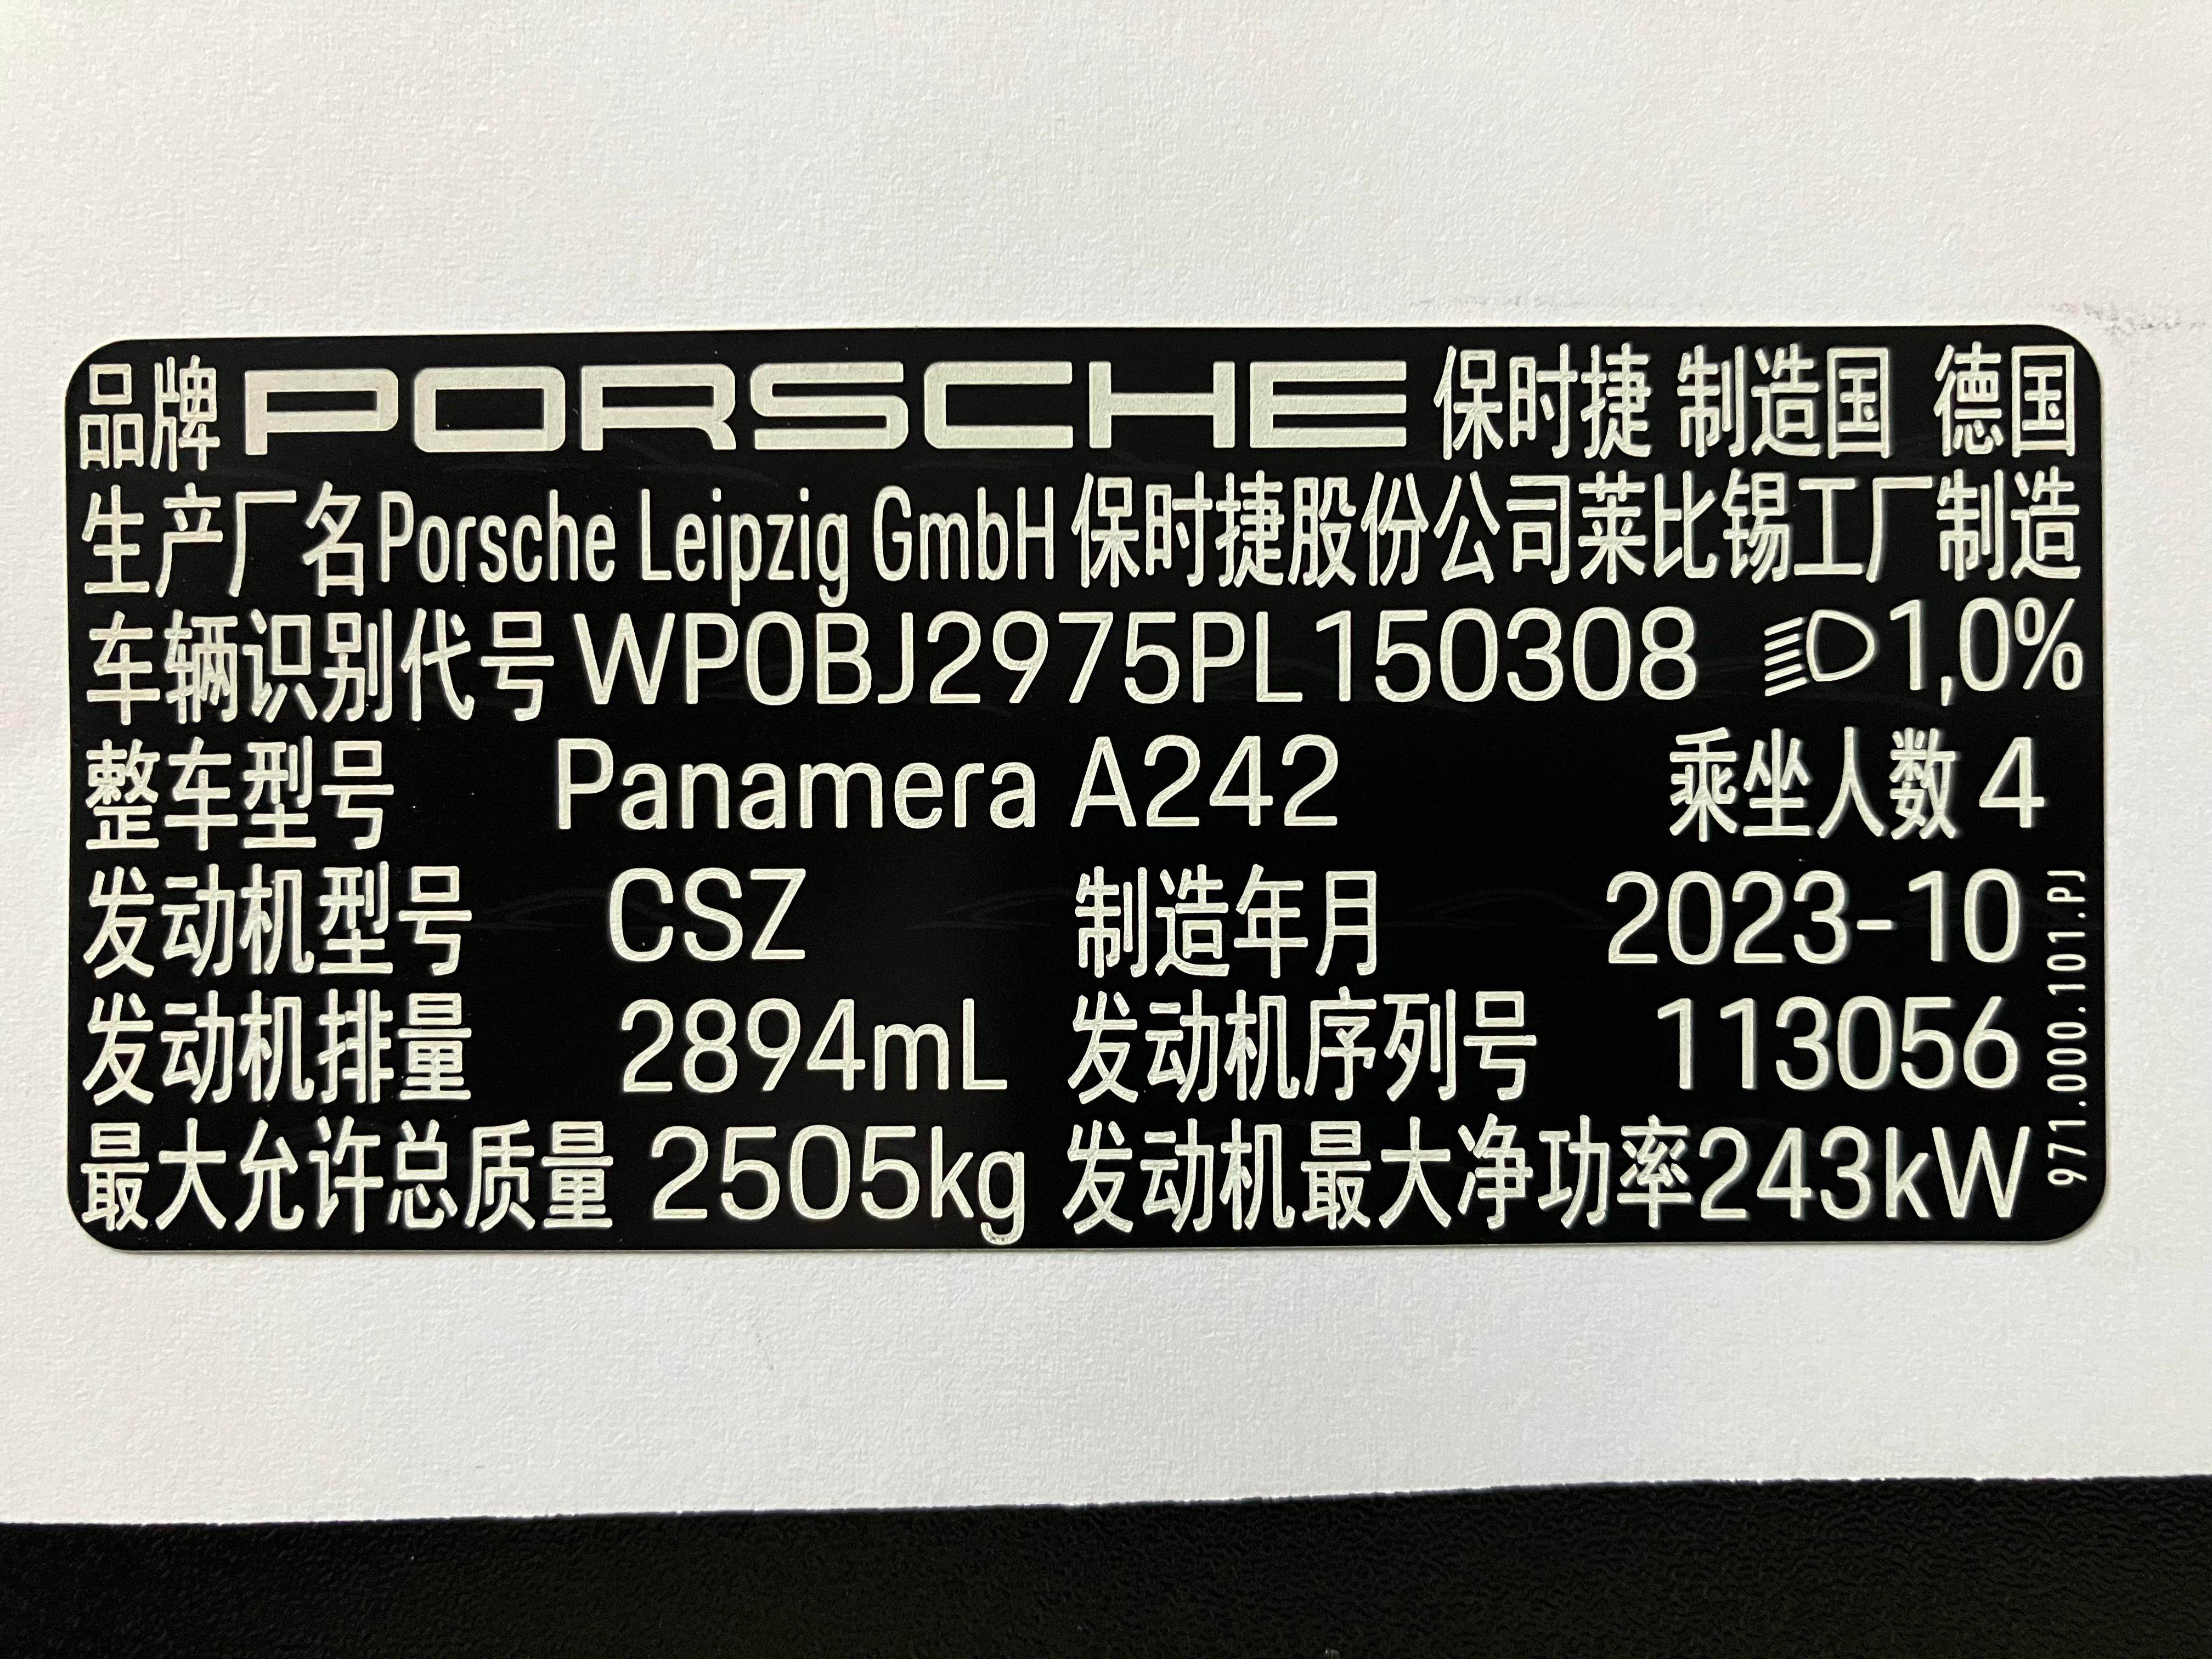Typlabel-China: (64, 324, 2106, 1249)
